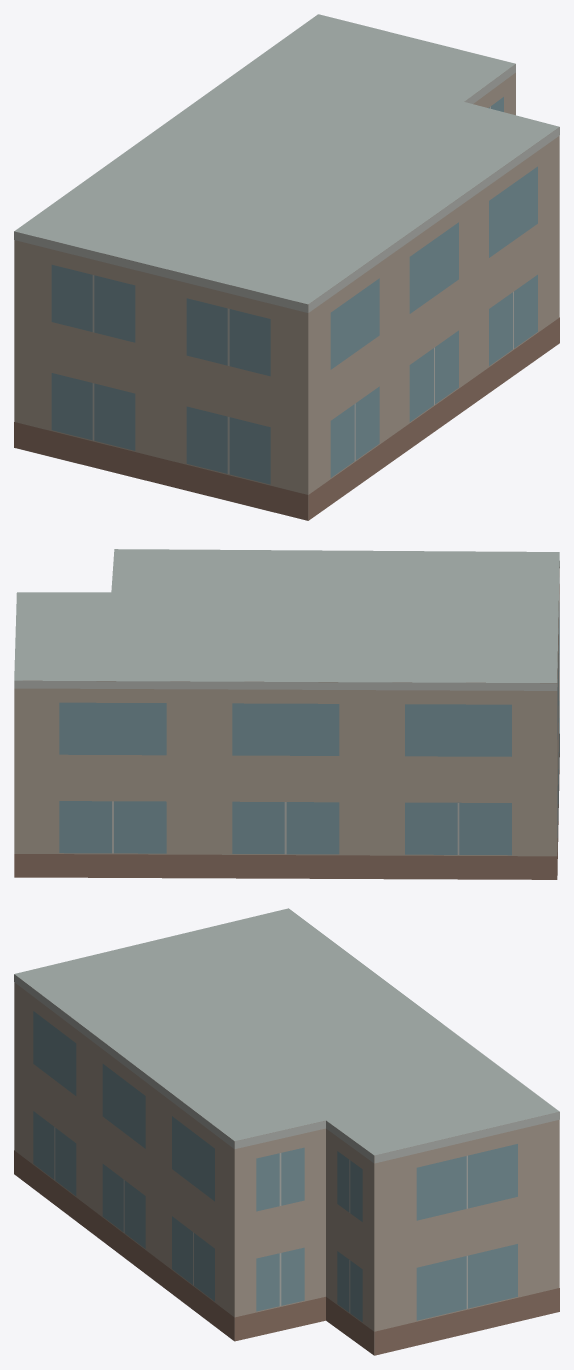
The model's file is survey-upis-32716746.glb.
The picture shows the model from 3 angles, top to bottom: view 1: azimuth 30°, elevation 25°; view 2: azimuth 150°, elevation 25°; view 3: azimuth 270°, elevation 25°; orthographic projection. The views are drawn at different scales.
Parts seen in each view (by area): view 1: survey-upis-32716746.tmp; view 2: survey-upis-32716746.tmp; view 3: survey-upis-32716746.tmp.
Part boxes in pixels (x1=…): survey-upis-32716746.tmp: x1=14, y1=14, x2=559, y2=520; survey-upis-32716746.tmp: x1=14, y1=549, x2=559, y2=879; survey-upis-32716746.tmp: x1=14, y1=908, x2=559, y2=1355.
Size of the model in its own units: 16.18 by 6.1 by 15.09.
